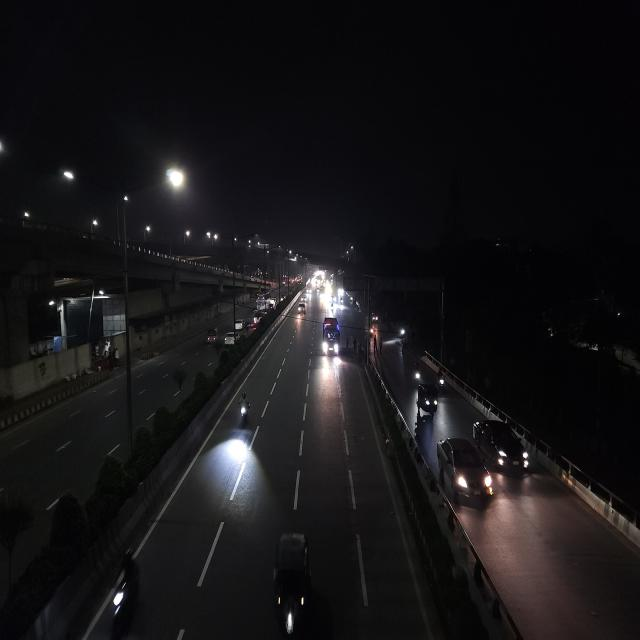bus: (320, 315, 341, 356)
car: (434, 434, 496, 511), (472, 417, 532, 474), (222, 331, 236, 348), (232, 317, 244, 333), (252, 310, 264, 324), (296, 303, 306, 318)
cng: (415, 380, 439, 419), (203, 327, 220, 348)
motorcycle: (232, 392, 254, 429), (410, 362, 423, 388), (436, 369, 448, 393)
pedestrian: (378, 336, 384, 356), (345, 334, 350, 356), (352, 336, 358, 354), (373, 335, 378, 355)
